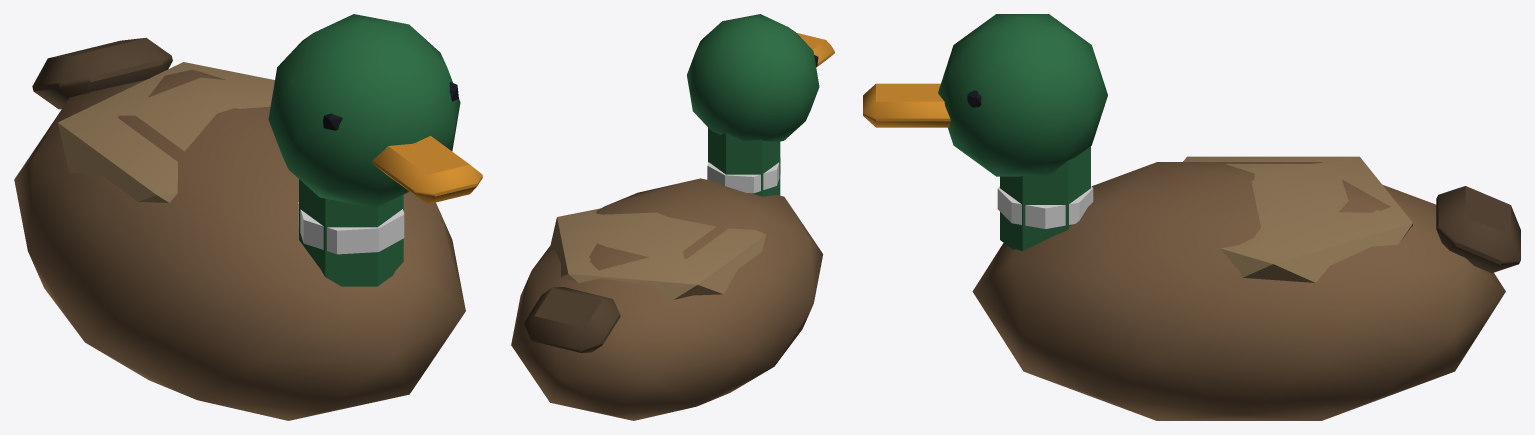
File: a_duck.glb
3 views of the same model, side by side, from view 1: azimuth 30°, elevation 25°; view 2: azimuth 150°, elevation 25°; view 3: azimuth 270°, elevation 25° (orthographic). The views are drawn at different scales.
Parts seen in each view (by area): view 1: body, head; view 2: body, head; view 3: body, head.
Boxes of the visible parts, x1,y1,x2,y2 form: body: (14,37,465,420); head: (268,14,482,286); body: (511,178,823,420); head: (687,14,834,196); body: (972,156,1520,420); head: (863,14,1107,251).
Bounding box in the file's own units: 0.291 × 0.3766 × 0.5771.
